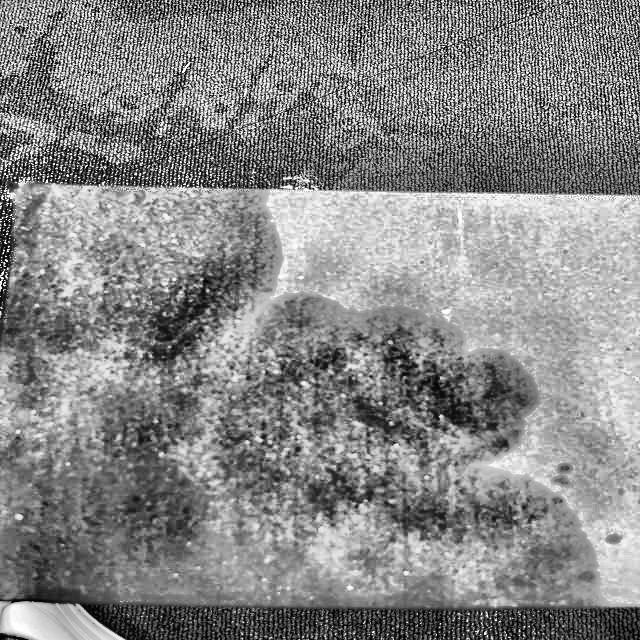box: (1, 178, 639, 615)
wet: (0, 183, 605, 607)
